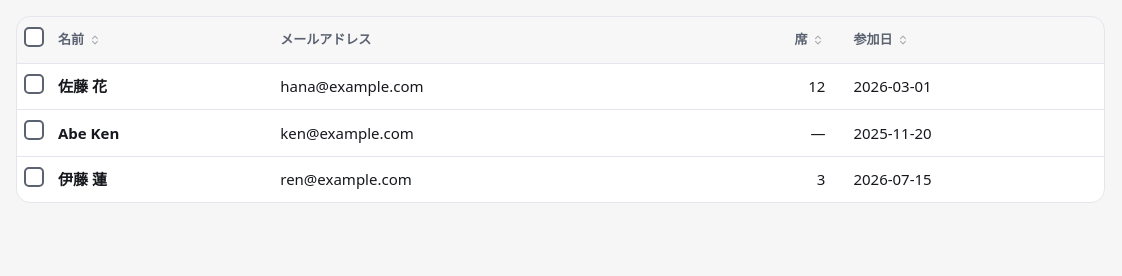
Test case: データの表 / U-26 › 行を選ぶチェックボックスは行の見出しを名前にし、見出しのチェックボックスは全部と一部（mixed）を示し、選んだ数と操作を出す
Click the checkbox labelled "Abe Ken": (34, 130) [24,120,44,140]
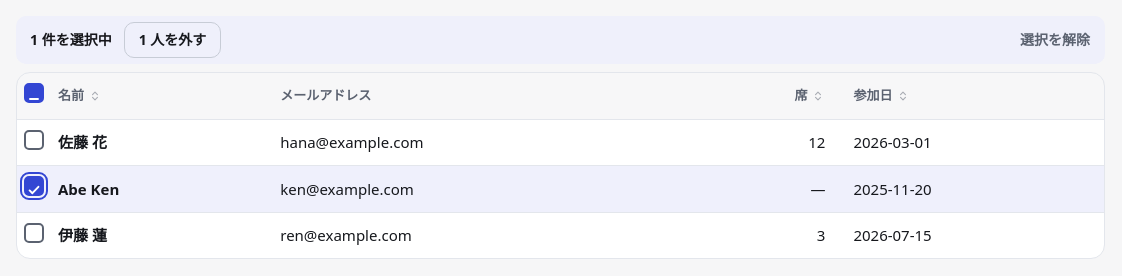
Result: the button "1 人を外す" is shown at [124,22,221,58]
// 全部を選ぶと、見えている行の順で並ぶ
Click the checkbox named "すべて選択": (34, 93) [24,83,44,103]
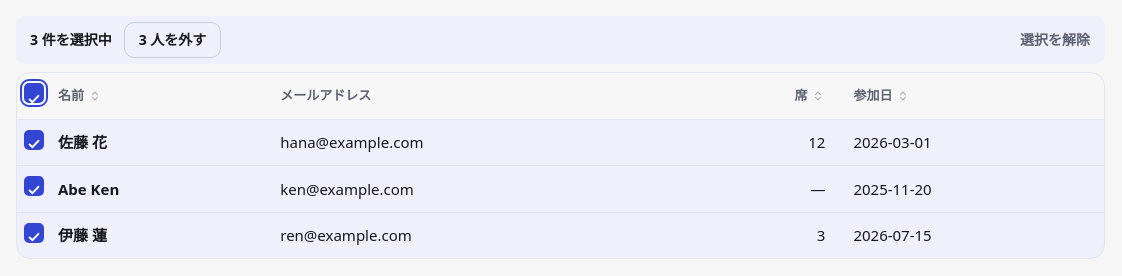
Result: the checkbox named "すべて選択" is checked at [24,83,44,103]
Click the button "選択を解除": (1055, 40) [1011,22,1099,58]
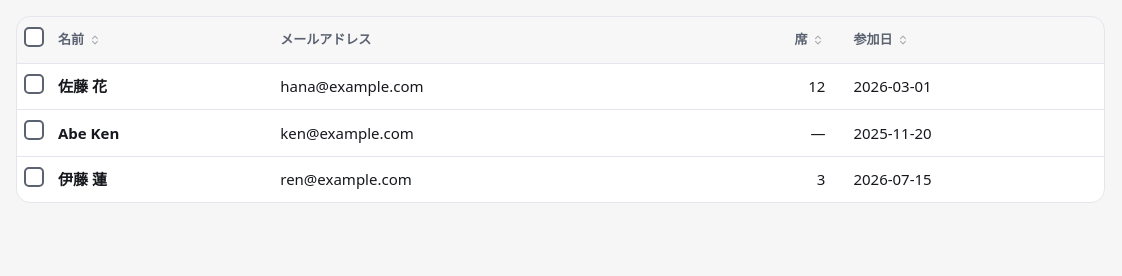
Result: the checkbox named "すべて選択" is not checked at [24,27,44,47]
Result: the text "件を選択中" is gone
